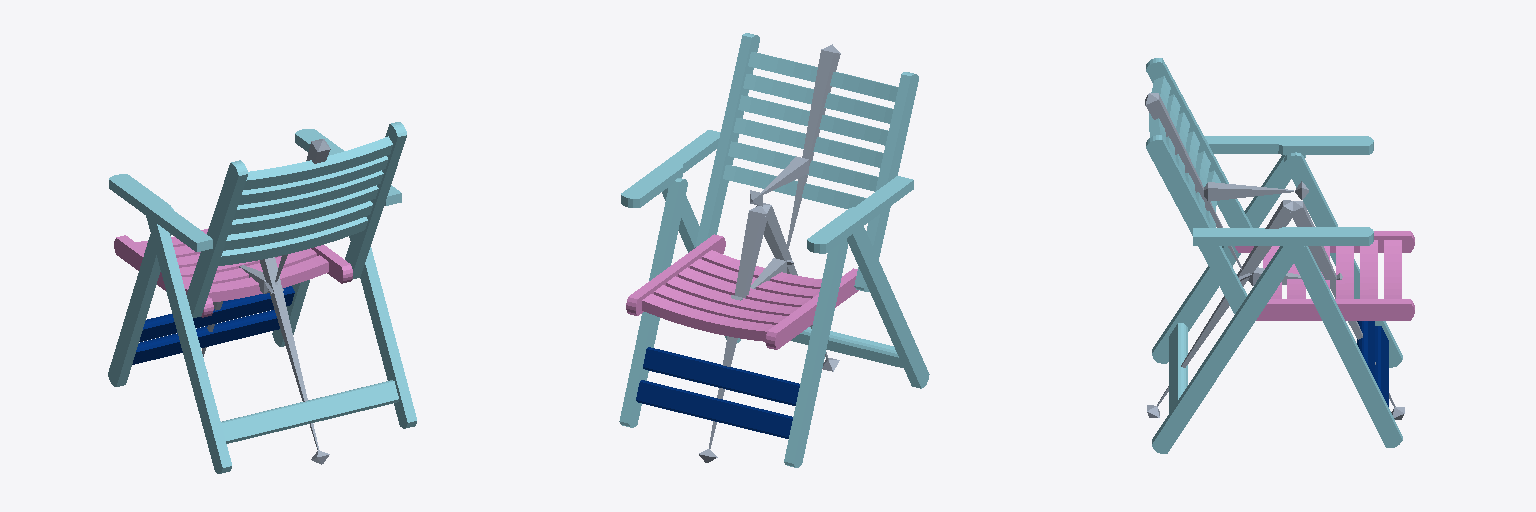
The picture shows the model from 3 angles: view 1: azimuth 30°, elevation 25°; view 2: azimuth 150°, elevation 25°; view 3: azimuth 270°, elevation 25°; orthographic projection.
Parts seen in each view (by area): view 1: Box006, Box034, Box013, Box024, Box031, Box025, Box032, Bone039, Box026, Box030, Bone031; view 2: Box006, Box013, Box034, Box024, Box031, Box032, Box030, Box025, Box026, Bone031, Bone033, Bone039 (+1 smaller); view 3: Box034, Box006, Box013, Box030, Box026, Box025, Box024, Bone039, Bone031, Bone033, Bone037, Box031 (+1 smaller).
Boxes of the visible parts, x1,y1,x2,y2 form: Box006: [187, 122, 406, 317]; Box034: [146, 216, 416, 473]; Box013: [114, 228, 352, 317]; Box024: [108, 207, 173, 386]; Box031: [132, 310, 279, 364]; Box025: [109, 174, 212, 251]; Box032: [139, 286, 294, 341]; Bone039: [260, 257, 318, 449]; Box026: [295, 129, 401, 205]; Box030: [272, 280, 309, 346]; Bone031: [275, 139, 330, 281]; Box006: [695, 33, 918, 291]; Box013: [626, 234, 858, 349]; Box034: [662, 187, 929, 388]; Box024: [784, 239, 847, 467]; Box031: [636, 380, 792, 438]; Box032: [643, 347, 799, 405]; Box030: [619, 178, 687, 427]; Box025: [807, 176, 913, 253]; Box026: [621, 130, 720, 207]; Bone031: [787, 44, 840, 248]; Bone033: [709, 206, 768, 448]; Bone039: [756, 203, 828, 360]; Box034: [1152, 155, 1305, 453]; Box006: [1146, 58, 1252, 313]; Box013: [1235, 231, 1414, 320]; Box030: [1294, 246, 1402, 447]; Box026: [1193, 227, 1373, 245]; Box025: [1204, 136, 1373, 154]; Box024: [1284, 152, 1402, 367]; Bone039: [1157, 200, 1295, 405]; Bone031: [1145, 93, 1241, 268]; Bone033: [1290, 201, 1395, 407]; Bone037: [1204, 182, 1293, 201]; Box031: [1375, 326, 1388, 406].
Bounding box in the file's own units: 63.46 × 96.31 × 71.96.